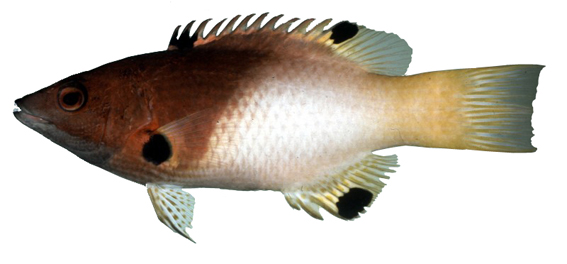fish: (13, 13, 547, 244)
